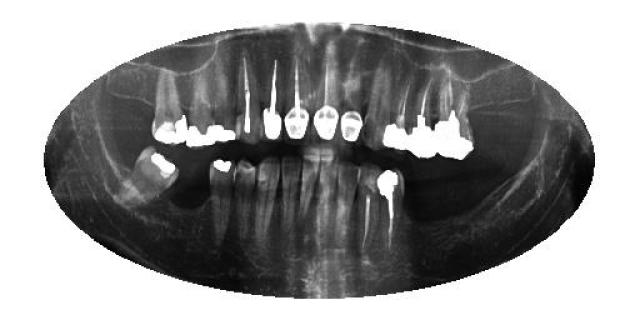Fillings: (114, 146, 180, 210), (150, 68, 188, 144), (186, 64, 214, 148), (209, 158, 236, 244), (213, 55, 235, 141), (340, 61, 362, 142)
Implant: (435, 72, 473, 162), (312, 52, 340, 142), (408, 75, 437, 159), (235, 49, 261, 142), (376, 169, 406, 249), (382, 76, 410, 152), (284, 56, 308, 140), (262, 54, 282, 140)
Restorations: (114, 146, 180, 209)
